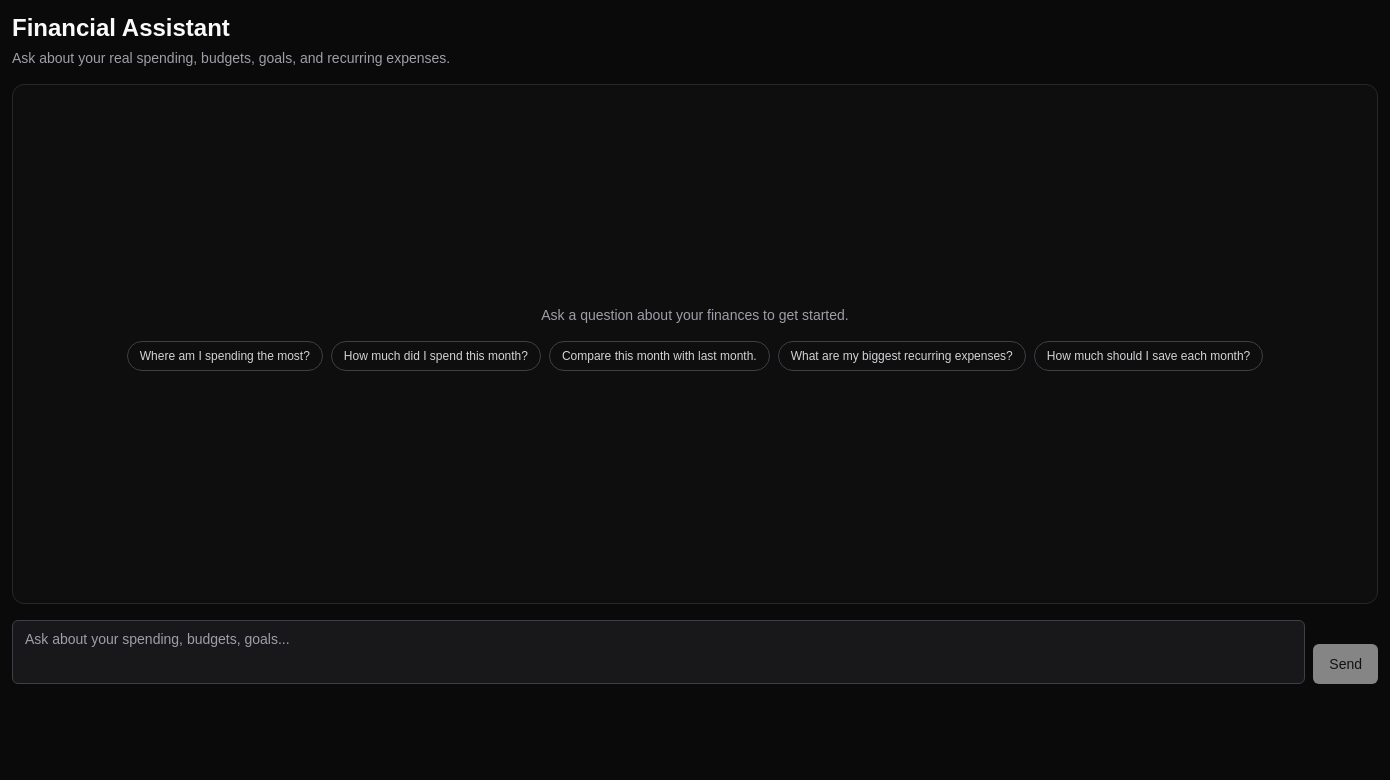
Test: AiAssistantPage › shows a demo-mode note when the provider is mock
What coordinates should you click on to do the following:
click the button "Where am I spending the most?"
I would click on:
 (225, 356)
Its box is [127,341,323,371].
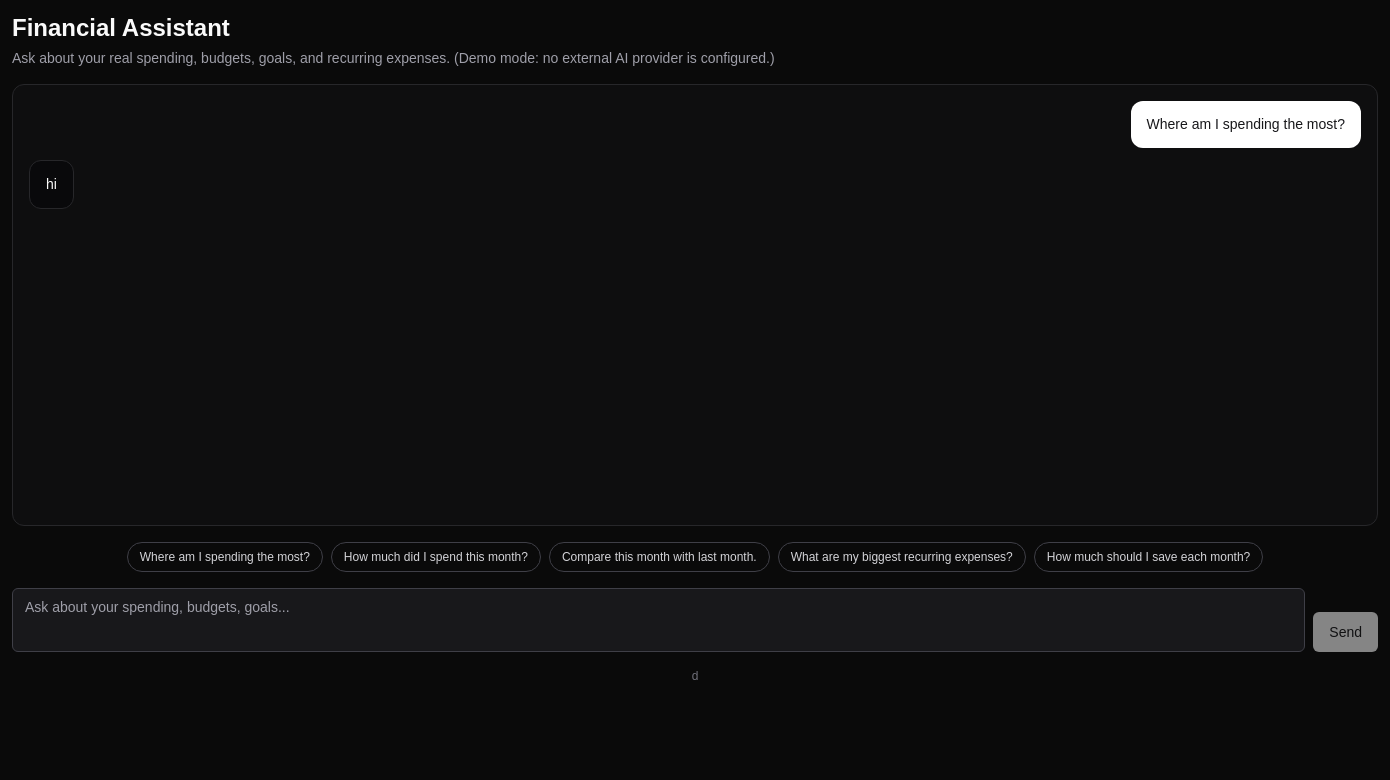
Result: the text "Demo mode" is shown at [450,50,775,66]
